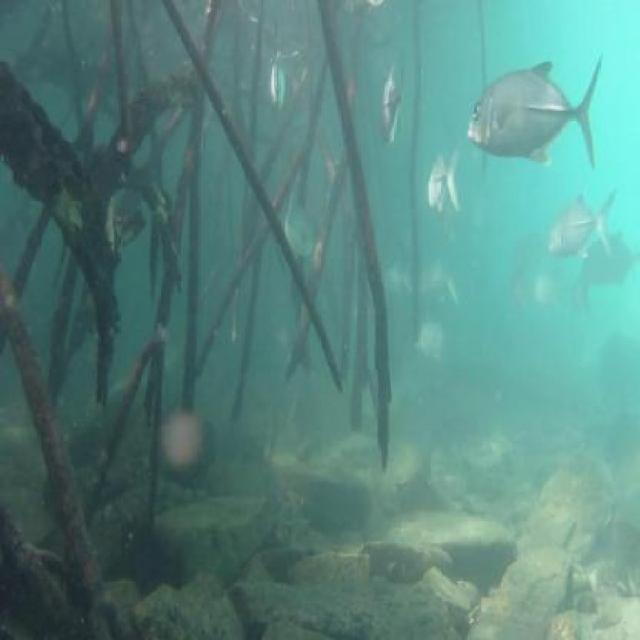Caranx_sexfasciatus_juvenile: (462, 55, 604, 176), (576, 219, 638, 310), (544, 189, 613, 253), (371, 69, 409, 153), (410, 248, 458, 310), (281, 186, 316, 271), (530, 267, 568, 331), (425, 152, 460, 216), (378, 239, 412, 304), (506, 231, 540, 292), (262, 59, 292, 126), (414, 313, 448, 369)
